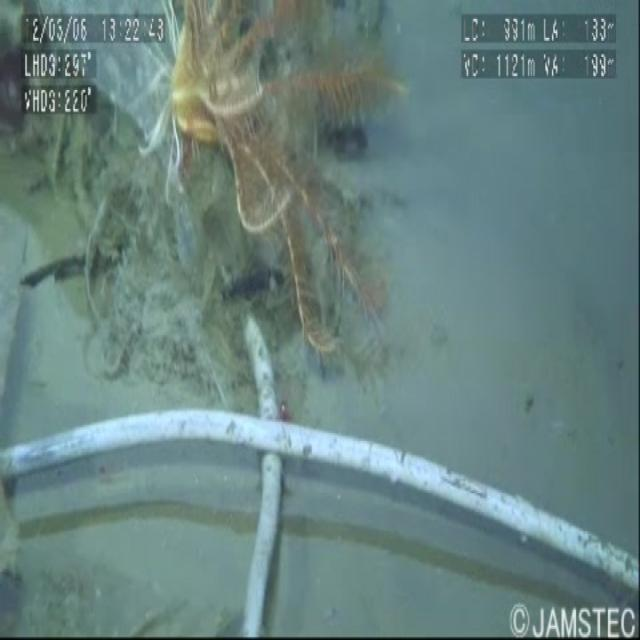Plastic: (33, 0, 196, 242)
Wood: (4, 355, 640, 597), (210, 254, 306, 640)
